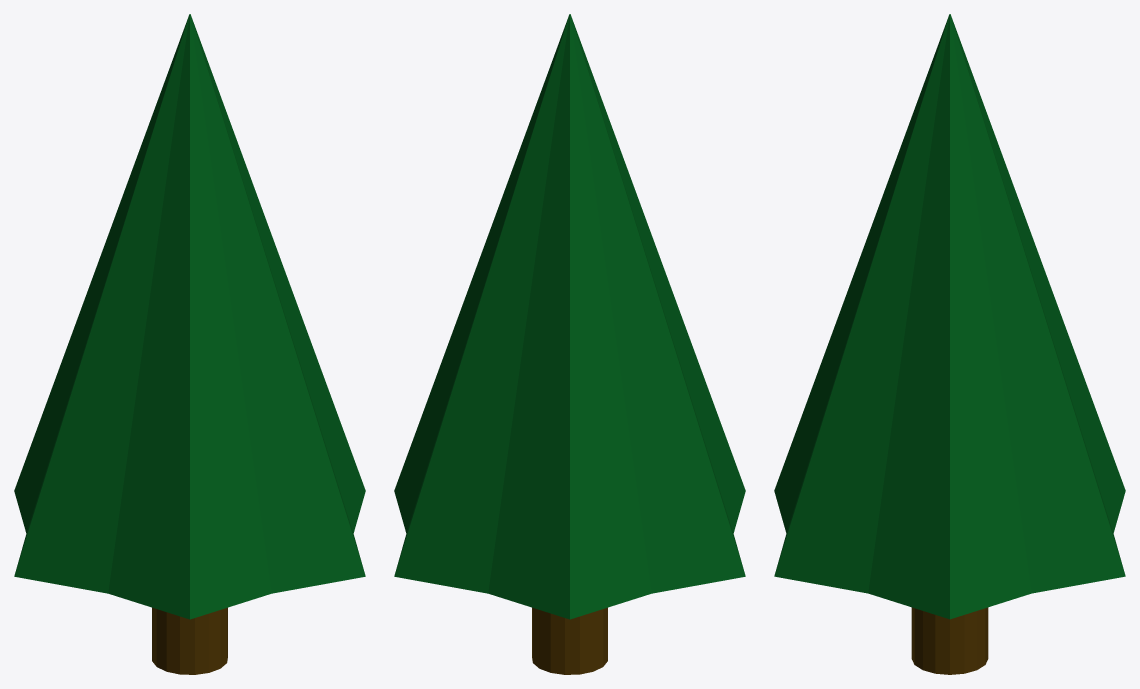
Rendered from tree.fbx.
The picture shows the model from 3 angles, left to right: view 1: azimuth 30°, elevation 25°; view 2: azimuth 150°, elevation 25°; view 3: azimuth 270°, elevation 25°; orthographic projection.
Parts seen in each view (by area): view 1: Cylinder.001, Cylinder.003, Cylinder; view 2: Cylinder.003, Cylinder.001, Cylinder; view 3: Cylinder.003, Cylinder.001, Cylinder.
Boxes of the visible parts, x1,y1,x2,y2 form: Cylinder.001: (14, 14, 365, 619); Cylinder.003: (14, 14, 190, 614); Cylinder: (152, 607, 227, 674); Cylinder.003: (394, 14, 745, 619); Cylinder.001: (571, 16, 745, 569); Cylinder: (532, 607, 607, 674); Cylinder.003: (879, 14, 1125, 619); Cylinder.001: (774, 14, 949, 619); Cylinder: (911, 607, 988, 674).
Size of the model in its own units: 1057 by 1852 by 915.
